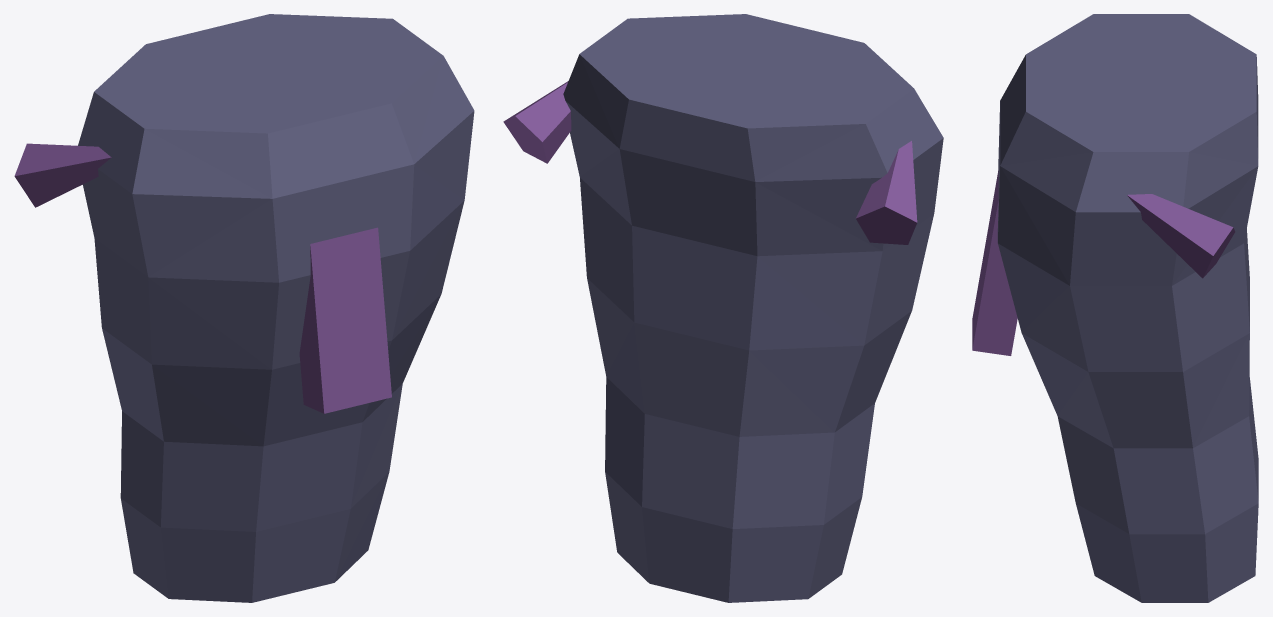
Rendered from shadow_stalker_torso.glb.
3 views of the same model, side by side, from view 1: azimuth 30°, elevation 25°; view 2: azimuth 150°, elevation 25°; view 3: azimuth 270°, elevation 25° (orthographic). The views are drawn at different scales.
Parts seen in each view (by area): view 1: shadow_stalker_torso; view 2: shadow_stalker_torso; view 3: shadow_stalker_torso.
Boxes of the visible parts, bbox=[...] form: shadow_stalker_torso: bbox=[14, 14, 474, 602]; shadow_stalker_torso: bbox=[503, 14, 943, 602]; shadow_stalker_torso: bbox=[972, 14, 1258, 602].
Bounding box in the file's own units: 1.02 × 1.13 × 0.619.
